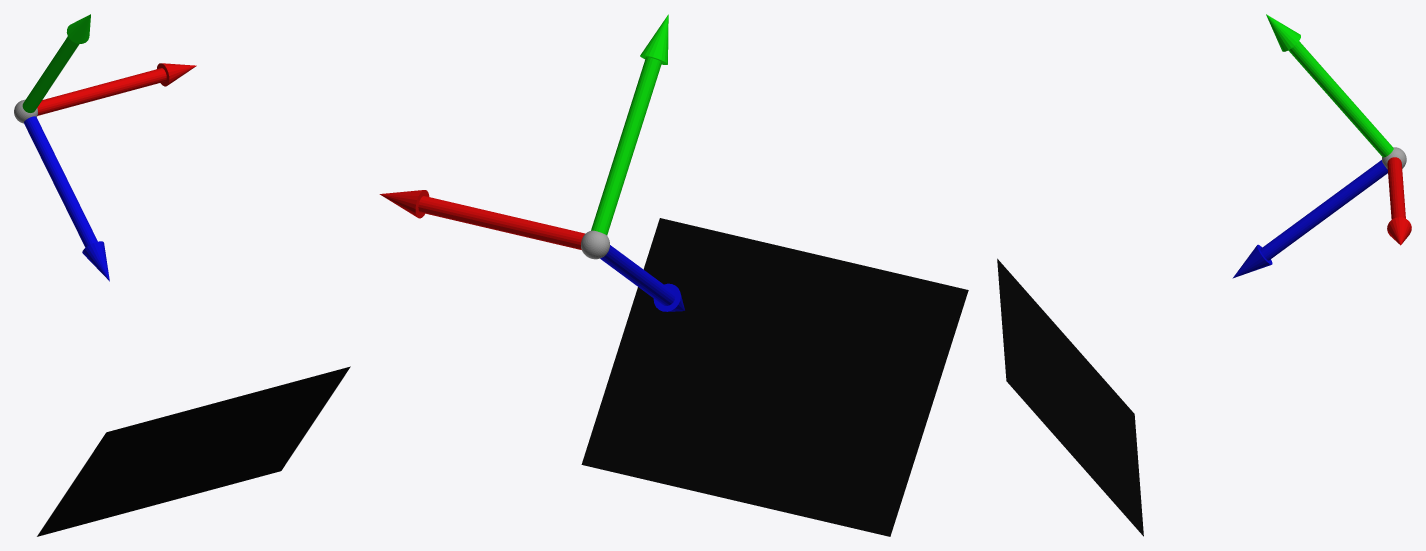
3 views of the same model, side by side, from view 1: azimuth 30°, elevation 25°; view 2: azimuth 150°, elevation 25°; view 3: azimuth 270°, elevation 25° (orthographic). The views are drawn at different scales.
Size of the model in its own units: 0.2079 by 0.3063 by 0.2507.
